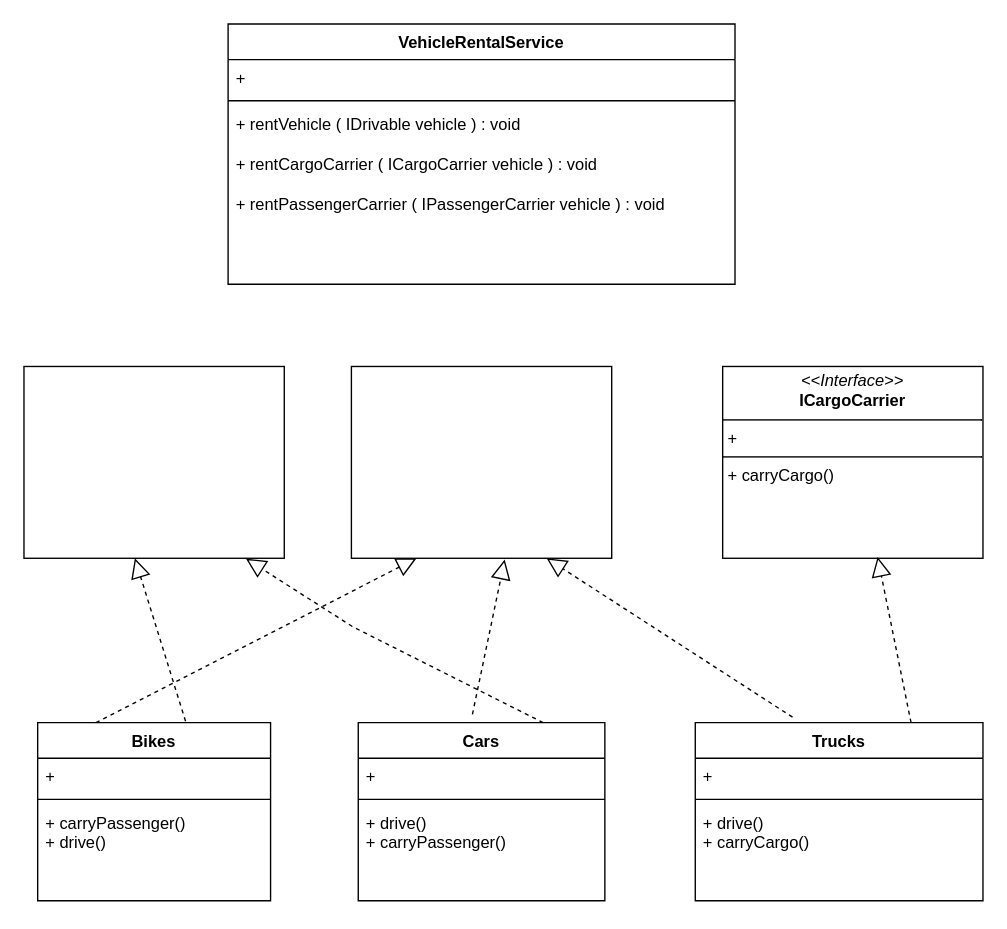
Image size: 1007x929. Some labels were removed from this diagram. Here are the shapes that lost their labels. From the top down, the centre of each, then its label:
[153,461]: <<Interface>> IPassengerCarrier + + carryPassenger()
[481,461]: <<Interface>> IDrivable + + drive()
